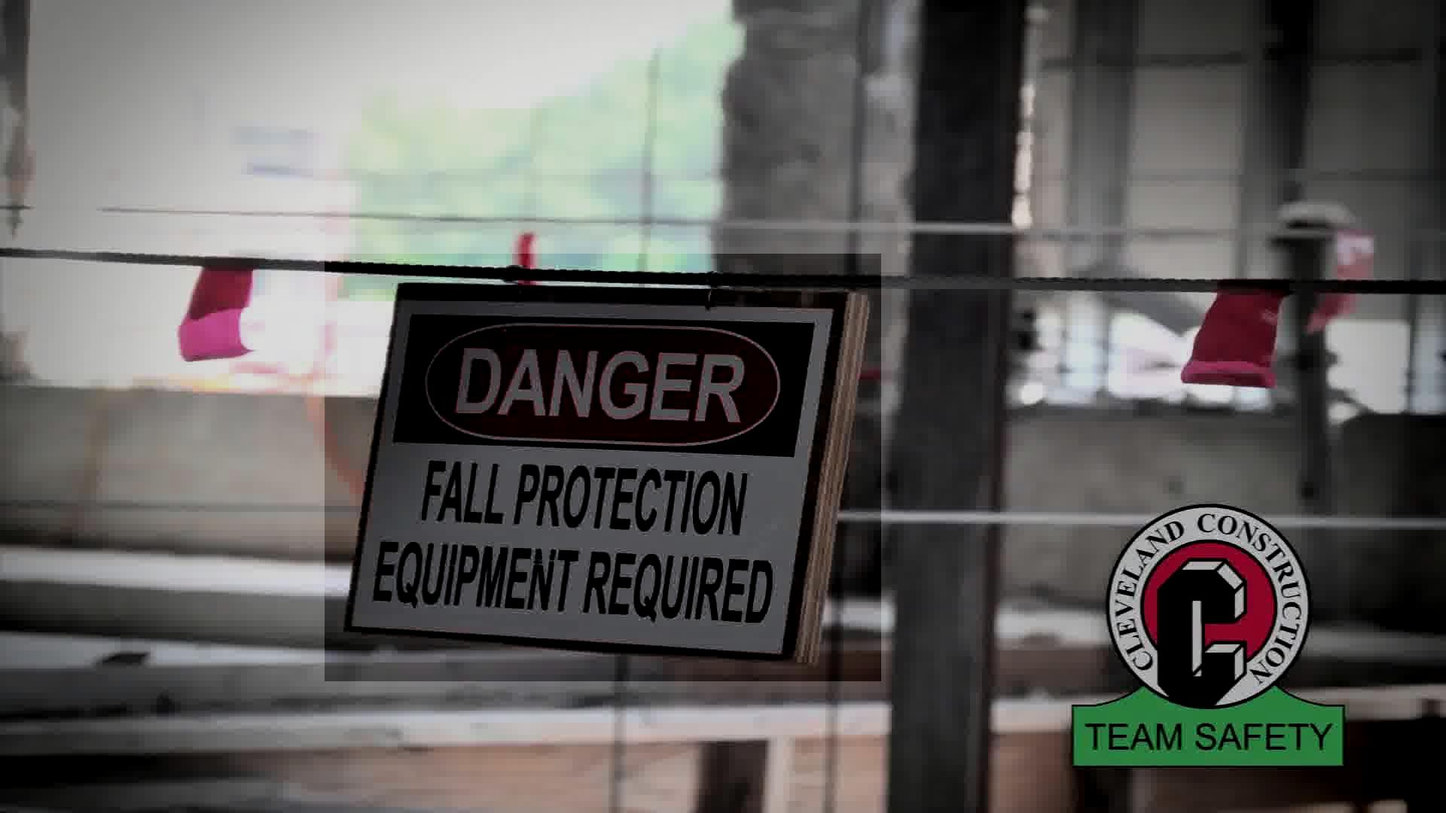safety_signage: (325, 254, 881, 681)
